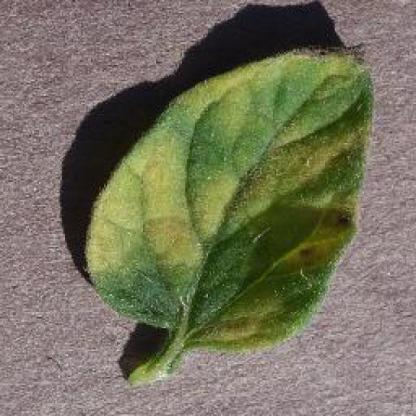Tomato_Leaf_Mold: (86, 56, 372, 348)
